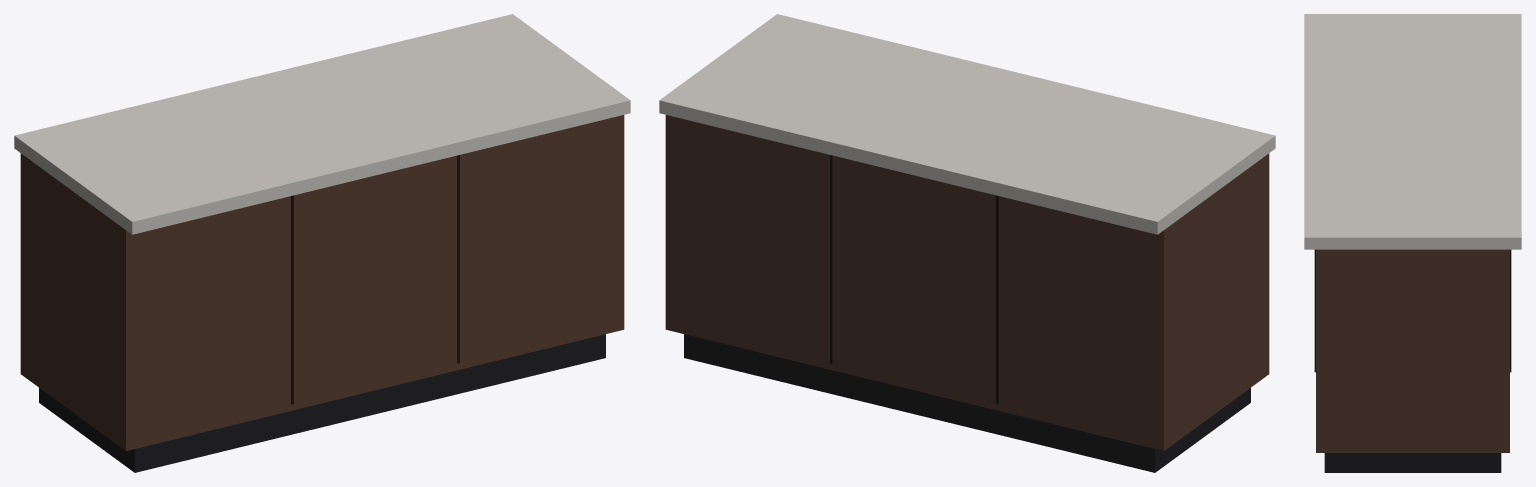
The model's file is Counter_Straight_L72in.glb.
The picture shows the model from 3 angles, left to right: view 1: azimuth 30°, elevation 25°; view 2: azimuth 150°, elevation 25°; view 3: azimuth 270°, elevation 25°; orthographic projection. The views are drawn at different scales.
Parts seen in each view (by area): view 1: Counter_Straight_L72in_Export; view 2: Counter_Straight_L72in_Export; view 3: Counter_Straight_L72in_Export.
Boxes of the visible parts, x1,y1,x2,y2 form: Counter_Straight_L72in_Export: (14, 14, 630, 472); Counter_Straight_L72in_Export: (659, 14, 1275, 472); Counter_Straight_L72in_Export: (1304, 14, 1521, 472).
Bounding box in the file's own units: 1.83 × 0.92 × 0.75.
